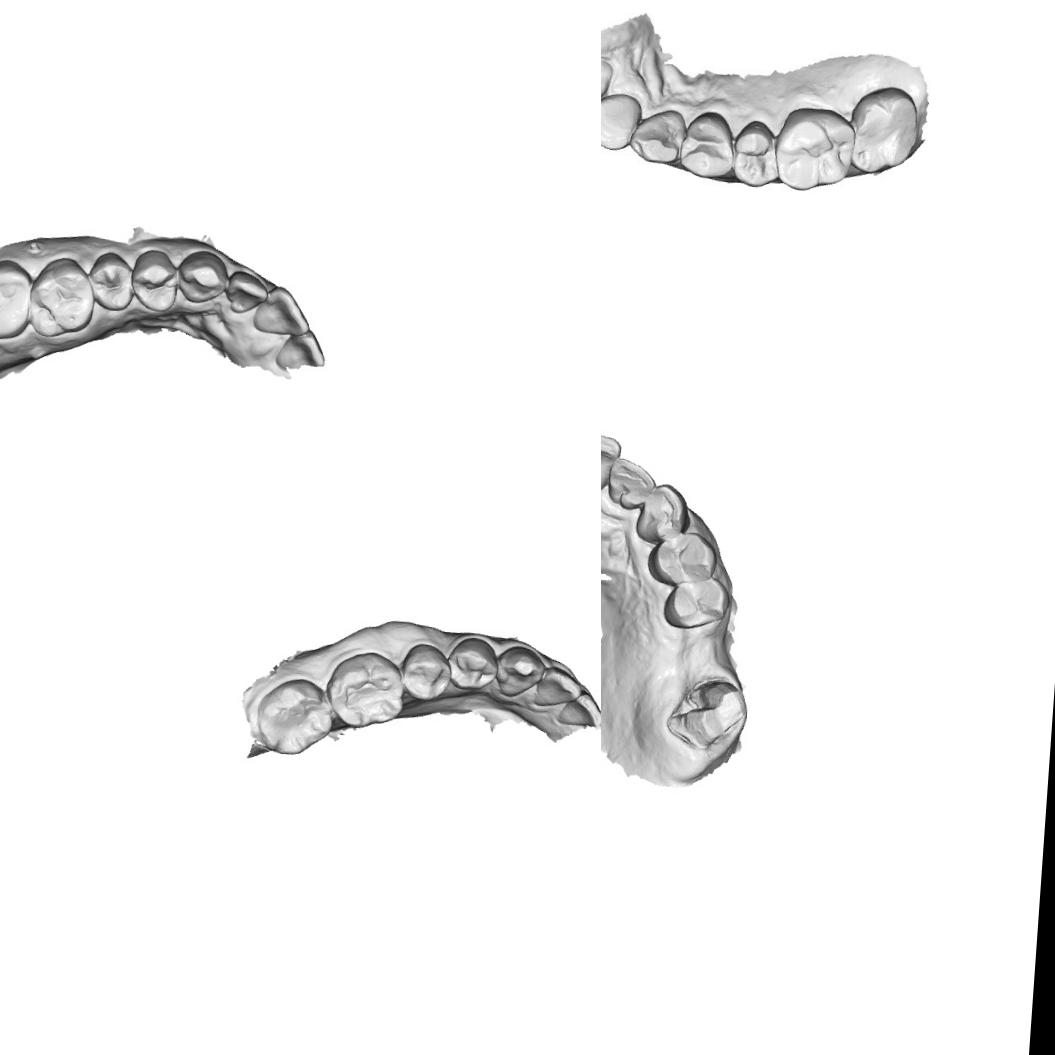canine: (627, 102, 687, 168), (633, 480, 690, 545), (492, 642, 547, 700), (174, 246, 226, 305)
crown: (666, 673, 748, 755)
incisor: (250, 282, 315, 338), (602, 454, 655, 512), (273, 324, 328, 370), (601, 89, 640, 153), (532, 663, 584, 710), (222, 267, 270, 317), (556, 689, 601, 730), (601, 429, 623, 501), (601, 49, 619, 124)
molar: (770, 103, 858, 195), (843, 81, 923, 180), (322, 646, 408, 731), (251, 674, 334, 758), (24, 252, 98, 340), (0, 254, 35, 341)
premolar: (645, 526, 720, 588), (675, 108, 734, 182), (725, 116, 783, 190), (660, 574, 732, 633), (128, 245, 184, 314), (83, 248, 137, 314), (396, 641, 454, 702), (444, 634, 500, 691)
